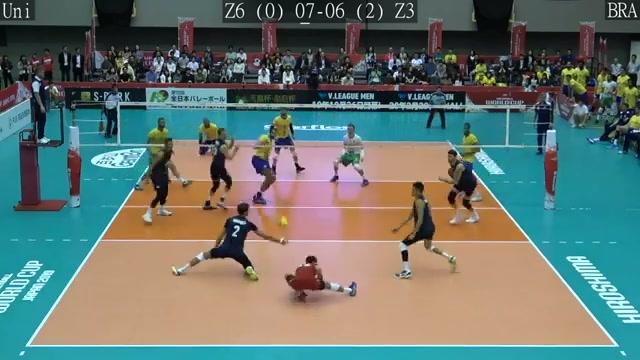ball: (277, 213, 290, 231)
